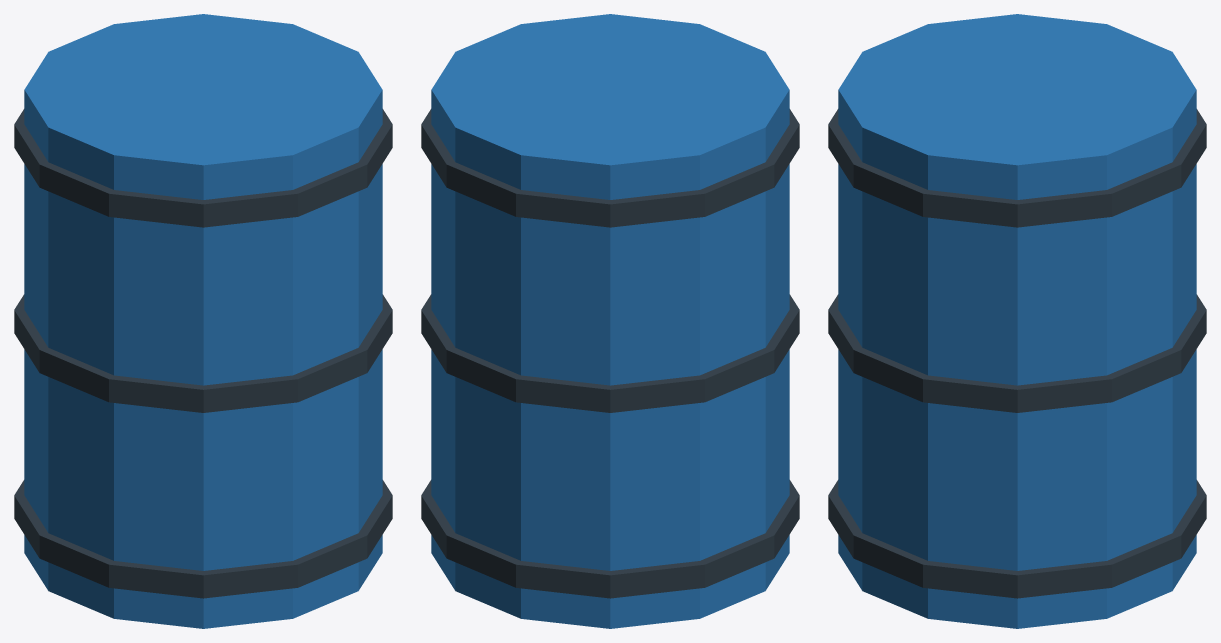
File: editor_barrel.obj
The picture shows the model from 3 angles, left to right: view 1: azimuth 30°, elevation 25°; view 2: azimuth 150°, elevation 25°; view 3: azimuth 270°, elevation 25°; orthographic projection.
Bounding box in the file's own units: 1.48 × 2 × 1.48.
2 materials, 2 textured.
